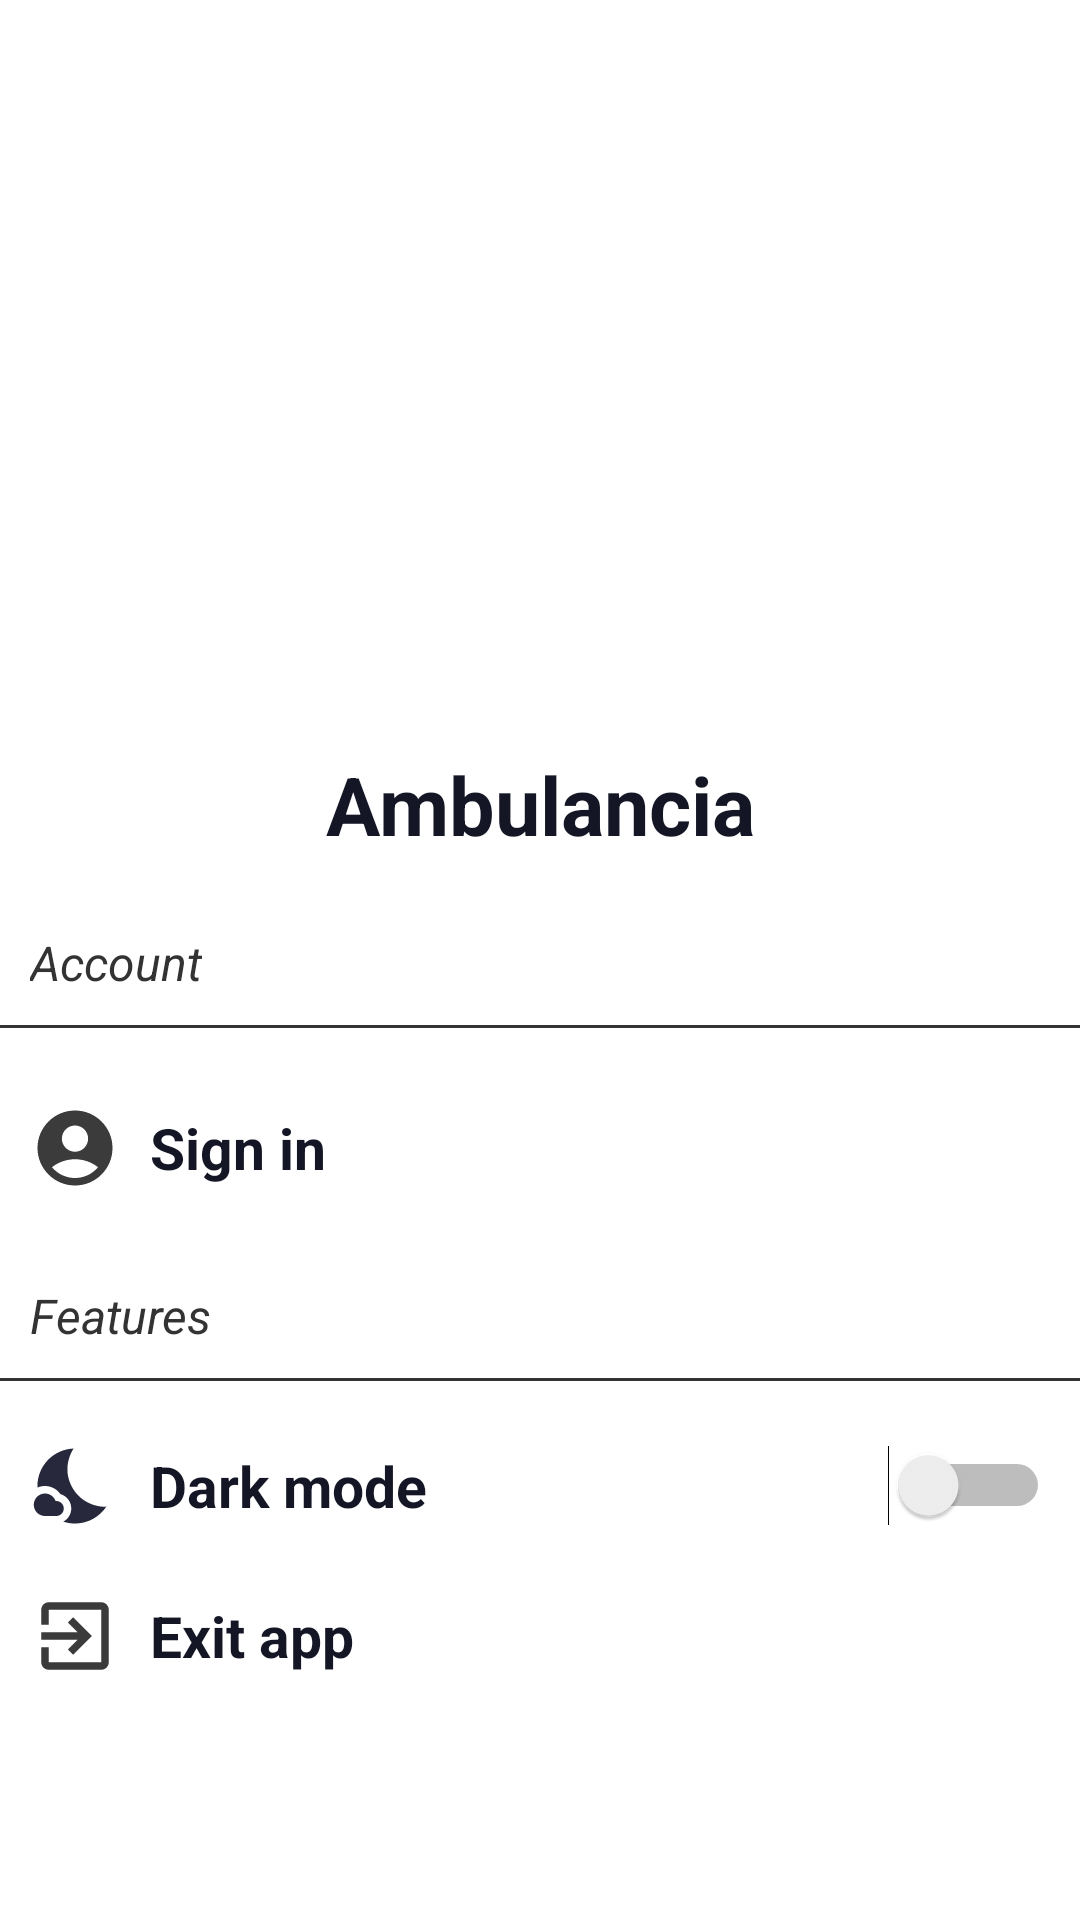

Where icons sit on this 1080w x 1920h app screen, as box(x1, y1, x2, y2):
nights stay: box(33, 1448, 107, 1524)
